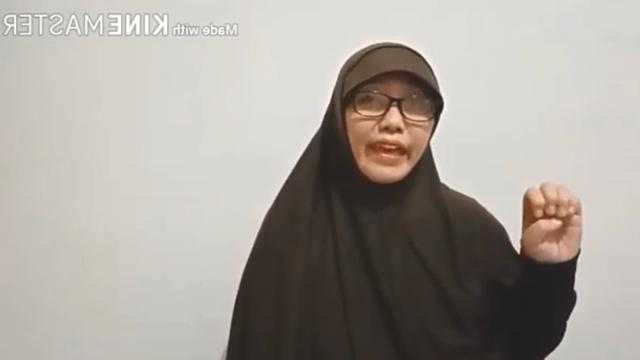E: (518, 182, 586, 262)
